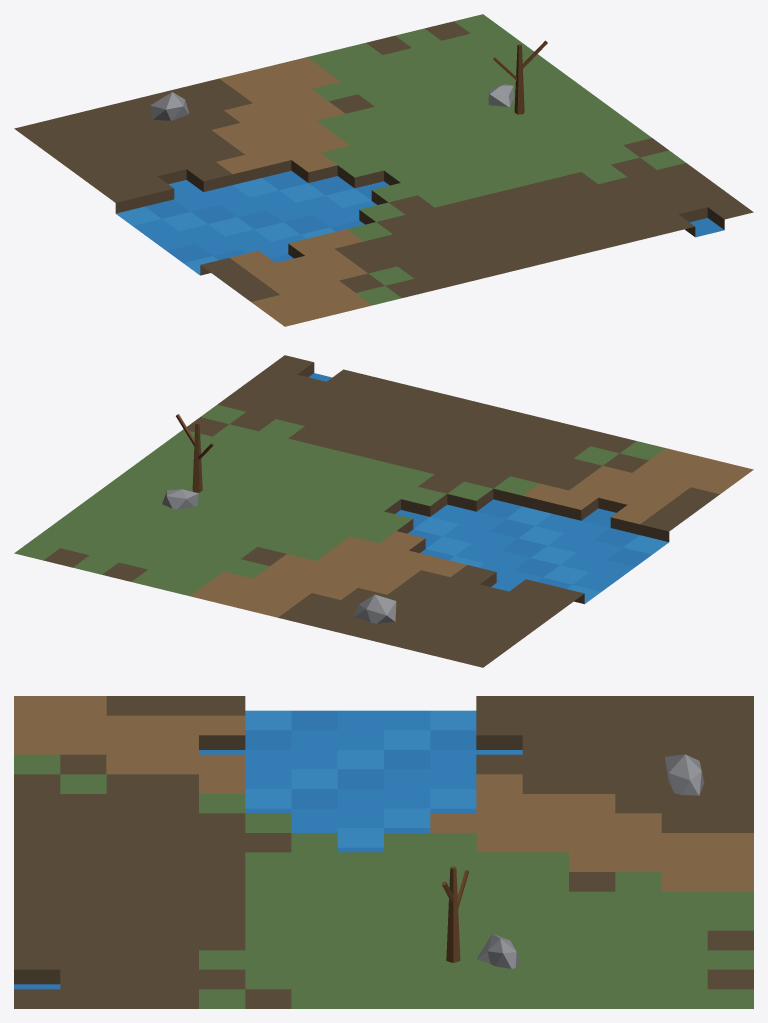
The model's file is chunk_2_17.glb.
3 renders of one model, top to bottom at view 1: azimuth 30°, elevation 25°; view 2: azimuth 150°, elevation 25°; view 3: azimuth 270°, elevation 25°, orthographic. The views are drawn at different scales.
Parts seen in each view (by area): view 1: chunk_2_17; view 2: chunk_2_17; view 3: chunk_2_17.
Part boxes in pixels (x1,y1,x2,y2): chunk_2_17: (14, 14, 753, 326); chunk_2_17: (14, 355, 753, 667); chunk_2_17: (14, 696, 753, 1008).
Size of the model in its own units: 16 by 2.58 by 16.
